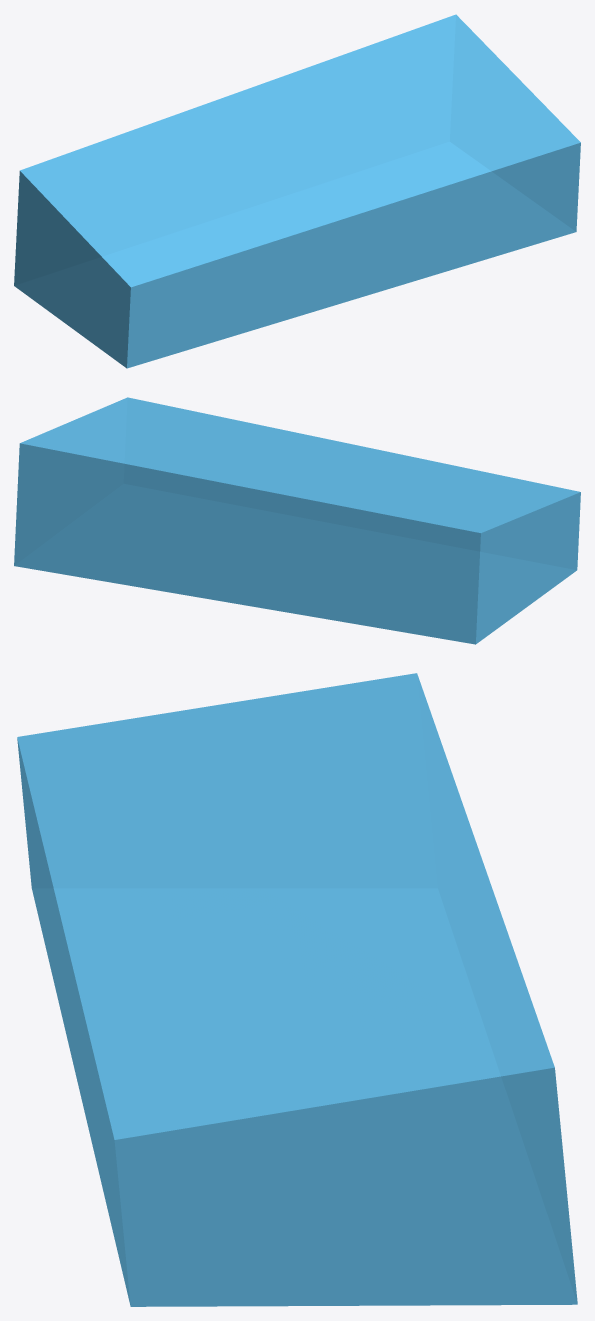
File: Event_421115418_HErechit_119.fbx
3 renders of one model, top to bottom at view 1: azimuth 30°, elevation 25°; view 2: azimuth 150°, elevation 25°; view 3: azimuth 270°, elevation 25°, orthographic. The views are drawn at different scales.
Visible parts, largest first — view 1: Model; view 2: Model; view 3: Model.
Boxes of the visible parts, bbox=[...] form: Model: bbox=[14, 14, 580, 368]; Model: bbox=[14, 397, 580, 644]; Model: bbox=[17, 673, 577, 1306].
Bounding box in the file's own units: 1.14 × 0.3012 × 0.6453.
